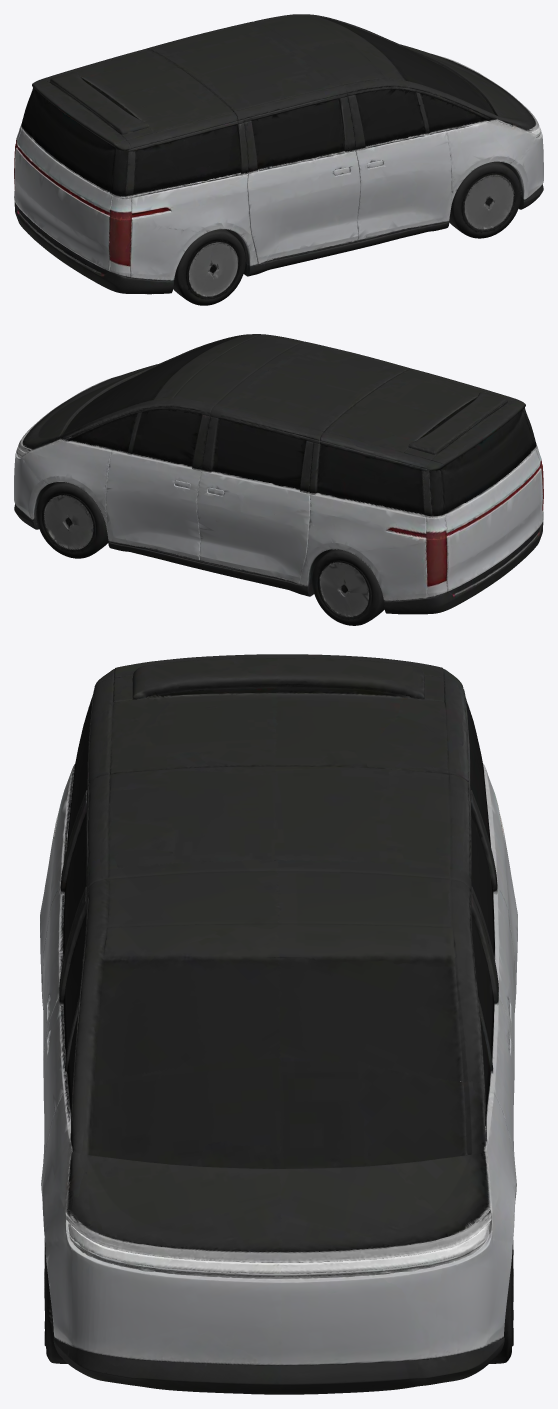
The model's file is White Van-optimized.glb.
The picture shows the model from 3 angles, top to bottom: view 1: azimuth 30°, elevation 25°; view 2: azimuth 150°, elevation 25°; view 3: azimuth 270°, elevation 25°; orthographic projection. The views are drawn at different scales.
Visible parts, largest first — view 1: tripo_node_bf02eebd-233d-48a1-a43c-2290cd79a23b; view 2: tripo_node_bf02eebd-233d-48a1-a43c-2290cd79a23b; view 3: tripo_node_bf02eebd-233d-48a1-a43c-2290cd79a23b.
Part boxes in pixels (<box>): tripo_node_bf02eebd-233d-48a1-a43c-2290cd79a23b: <box>14,14,543,305</box>; tripo_node_bf02eebd-233d-48a1-a43c-2290cd79a23b: <box>14,334,543,625</box>; tripo_node_bf02eebd-233d-48a1-a43c-2290cd79a23b: <box>40,654,517,1394</box>.
Size of the model in its own units: 4.65 by 1.75 by 2.1.
Materials: 1 (1 with a texture image).
